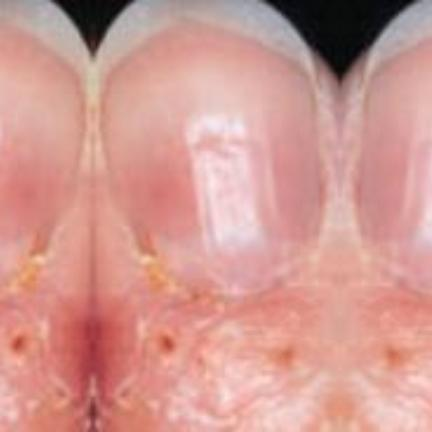Nail: (95, 0, 326, 303), (0, 2, 89, 295), (354, 0, 432, 299)
